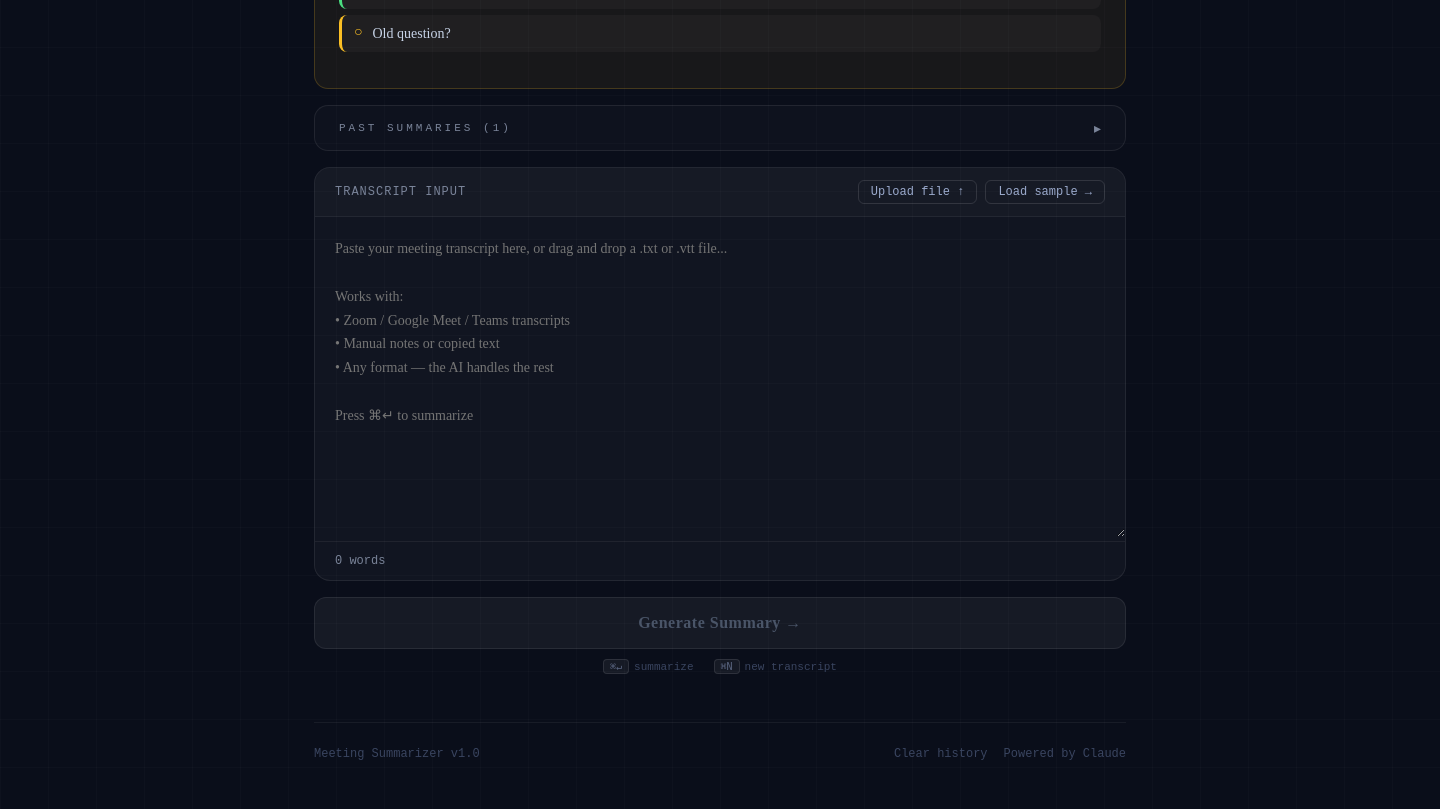
Test: follow-up tracker › clears all history and resets to the empty state
(page scrolled)
Click the button "Clear history".
click(941, 754)  # box [894,747,988,761]
(page scrolled)
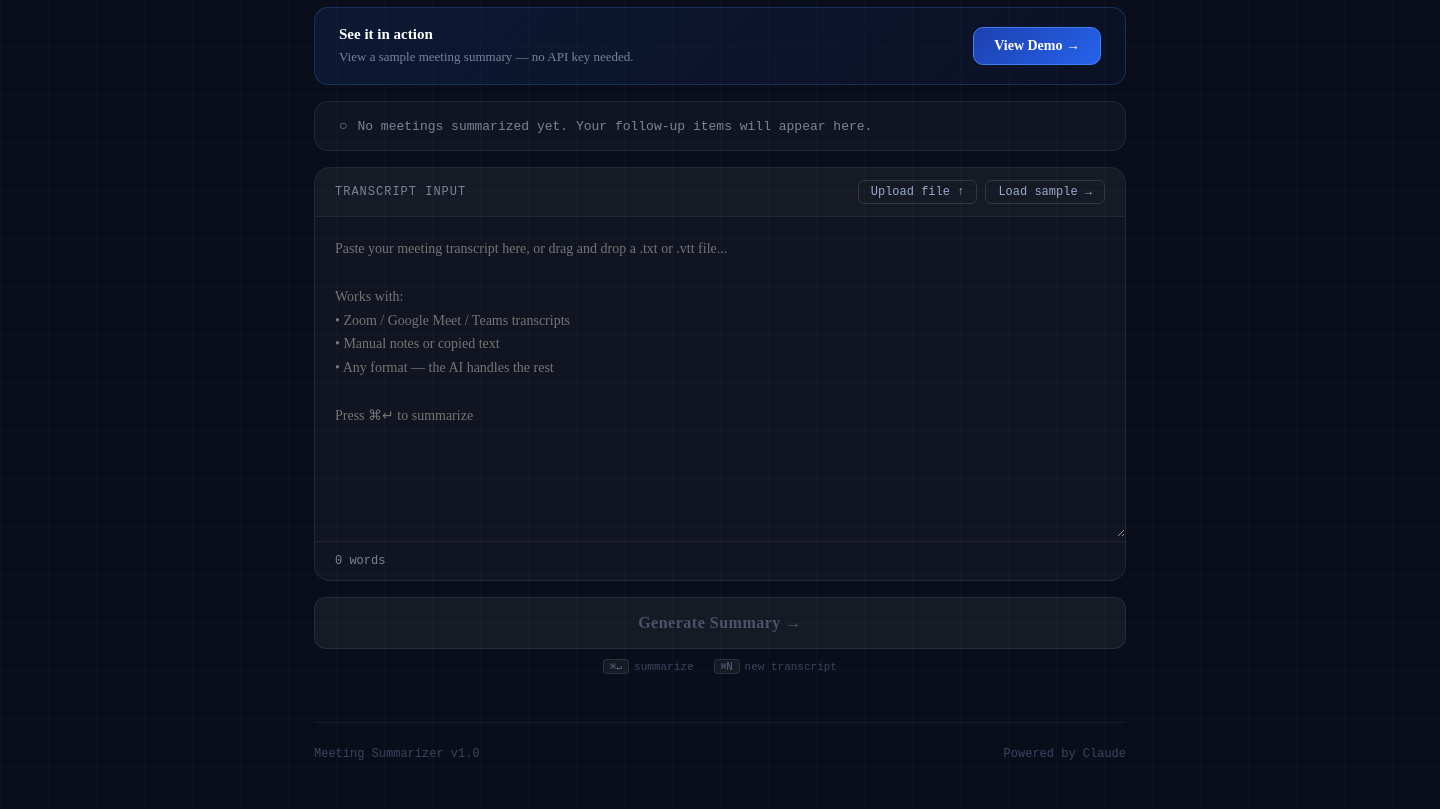
Expected: the text "No meetings summarized yet" is shown, [358,119,872,134]
